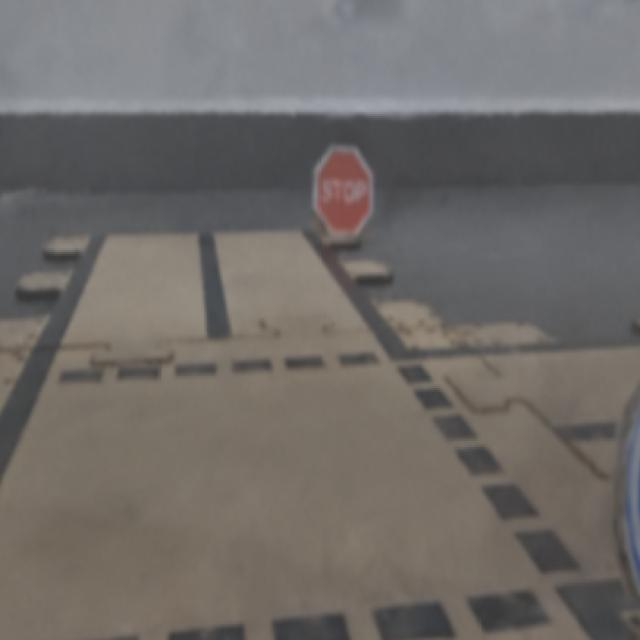STOP: (313, 146, 373, 238)
